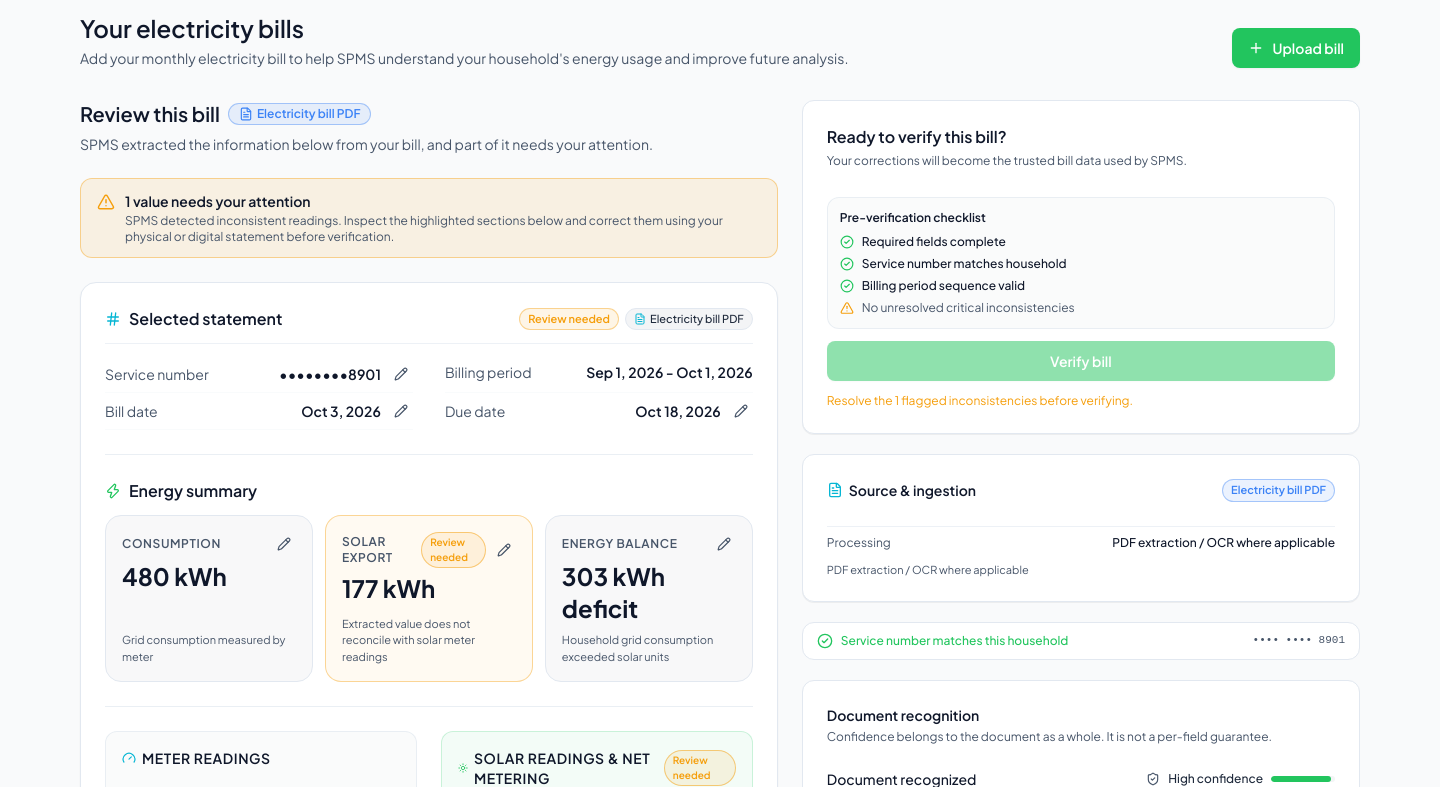
Bill User Correction Workflow › allows opening inline editor on conflicting energy card and displays original AI extraction
This screenshot has width=1440, height=787.
Click the button named "edit solar export" at (504, 550), box [492,538,516,562]
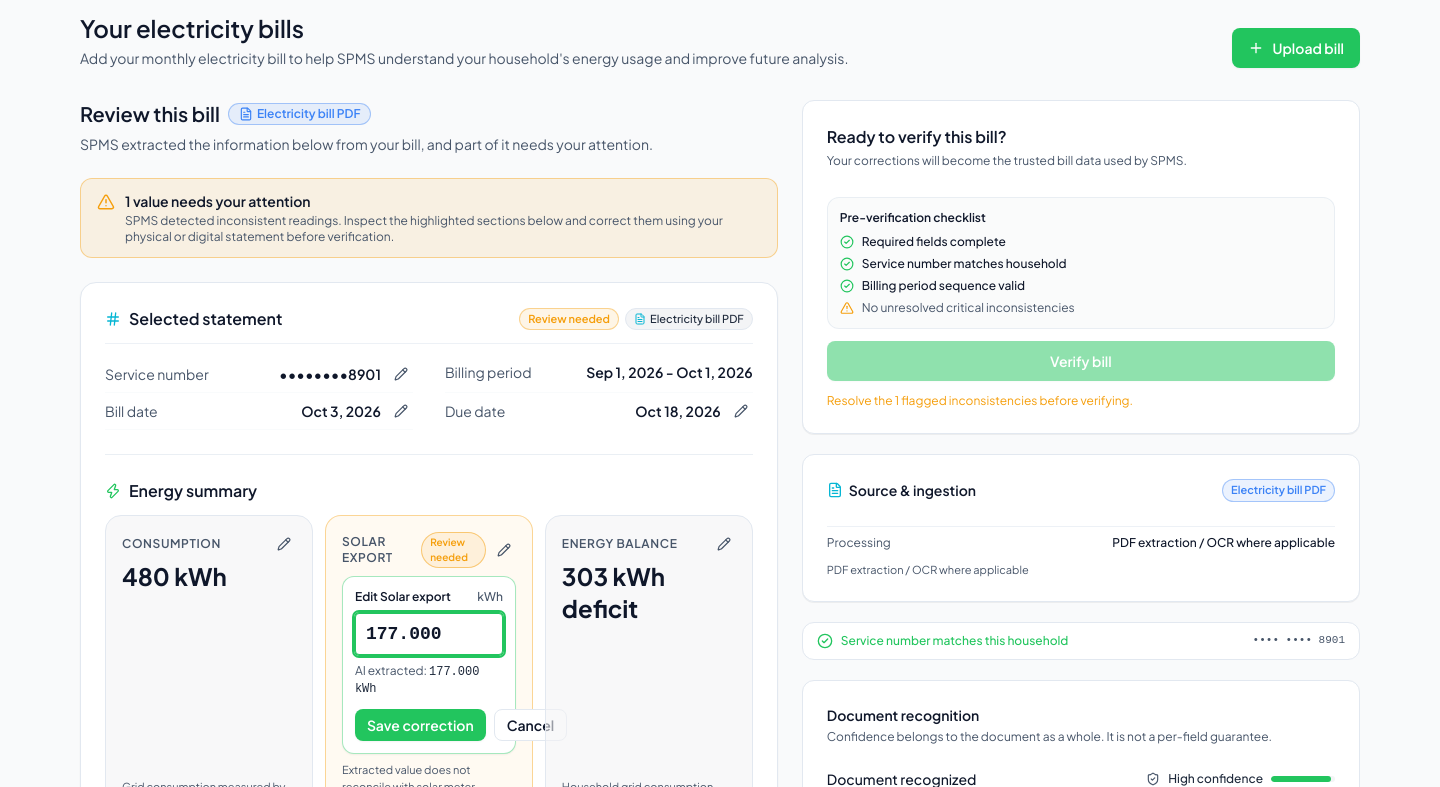
Expected: the form "Edit Solar export" is shown, [342,576,516,754]
Expected: the text "AI extracted: 177.000 kWh" is shown, [355,663,479,696]
Expected: the text "177.000 kWh" is shown, [355,665,479,696]
Cancel button cancels without triggering onCorrect
Click the button "Cancel" at (530, 725), box [494,709,567,741]
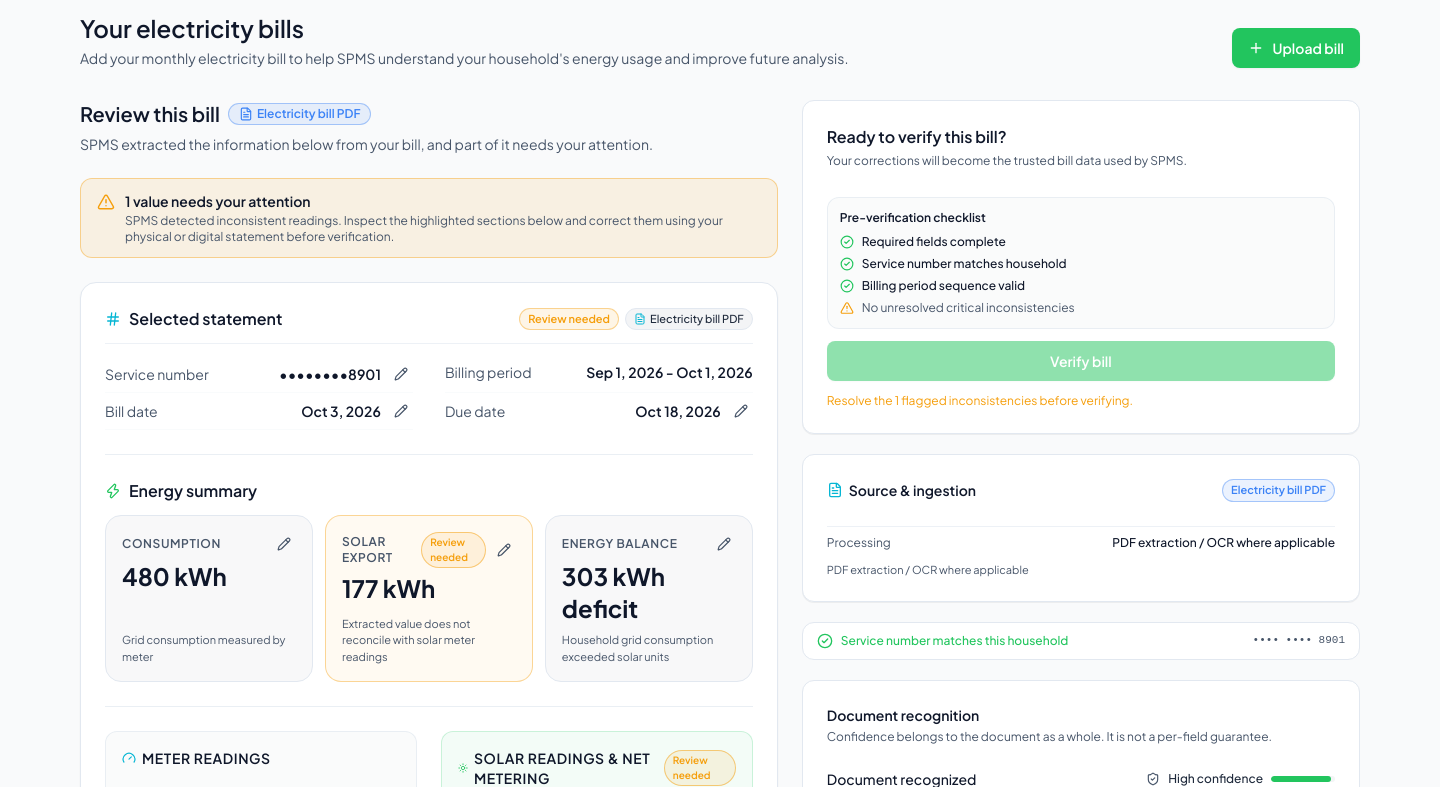
Expected: the label "Edit Solar export" is gone
